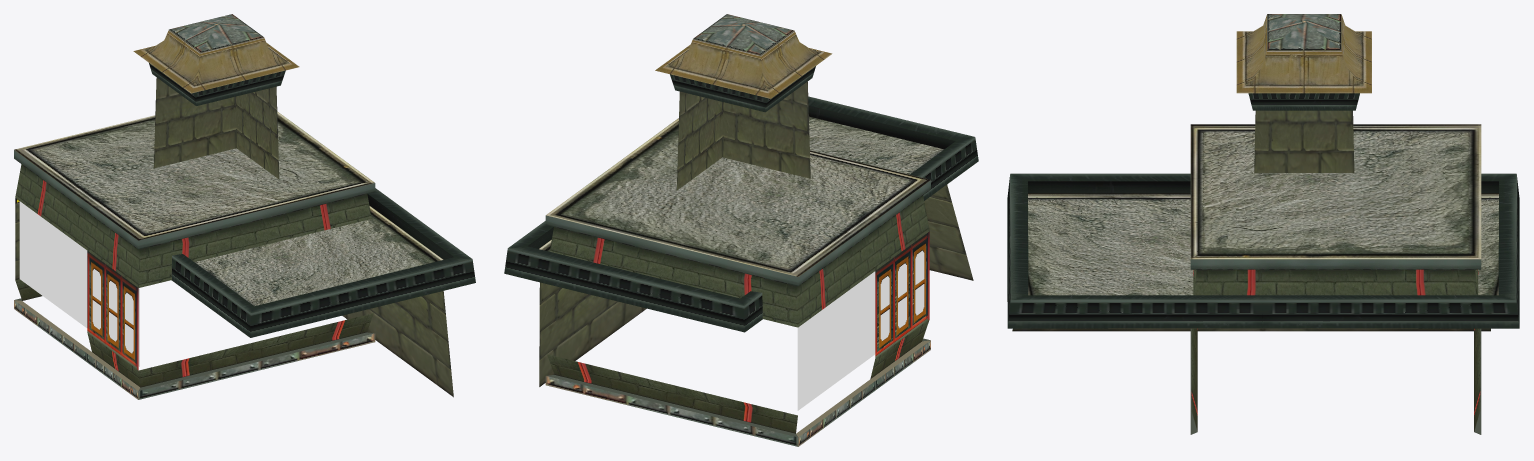
The model's file is l_residenceright_hdtex.glb.
3 views of the same model, side by side, from view 1: azimuth 30°, elevation 25°; view 2: azimuth 150°, elevation 25°; view 3: azimuth 270°, elevation 25° (orthographic). The views are drawn at different scales.
Parts seen in each view (by area): view 1: residence_Right, Litwin_res; view 2: residence_Right, Litwin_res; view 3: residence_Right.
Part boxes in pixels (box(x1,y1,x2,y2)): residence_Right: box(14, 14, 475, 399); Litwin_res: box(19, 201, 139, 366); residence_Right: box(504, 14, 978, 446); Litwin_res: box(797, 250, 924, 410); residence_Right: box(1007, 14, 1519, 434).
Bounding box in the file's own units: 21.27 × 24.25 × 31.15.
7 materials, 7 textured.
